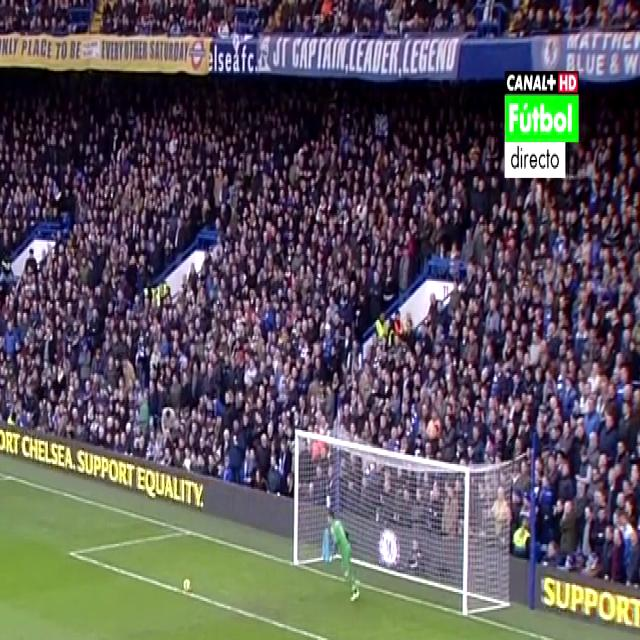ball: (181, 569, 193, 598)
goalkeeper: (318, 499, 364, 610)
